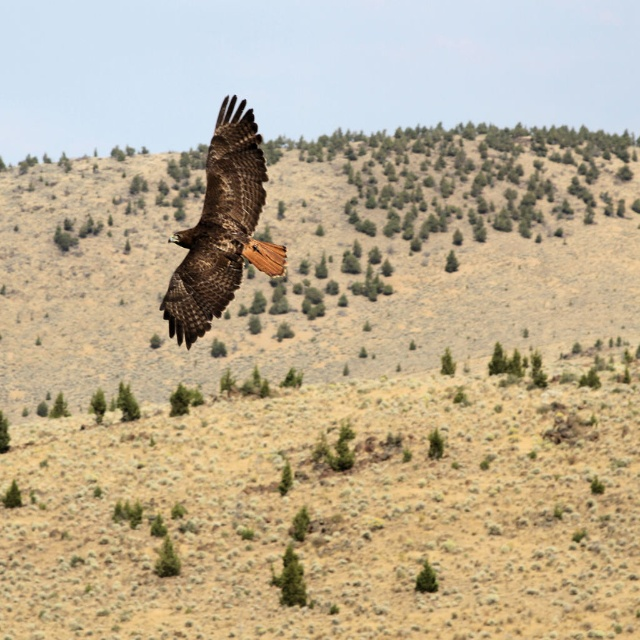Eagle: (157, 87, 289, 348)
